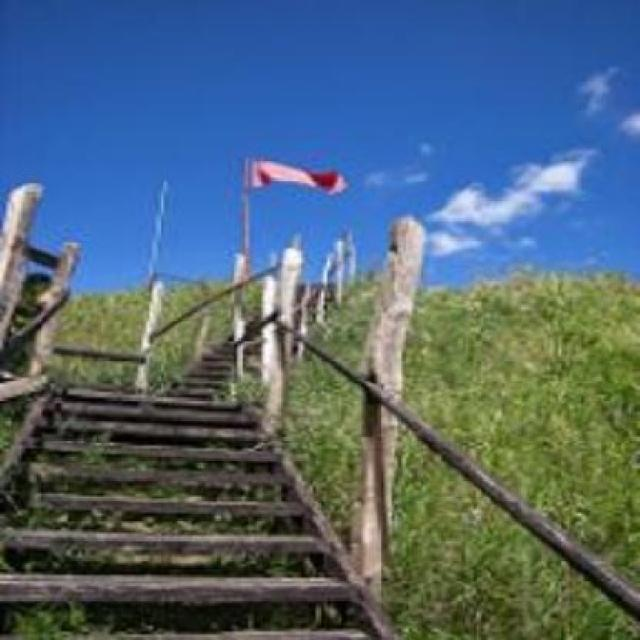stair: (0, 369, 397, 640)
